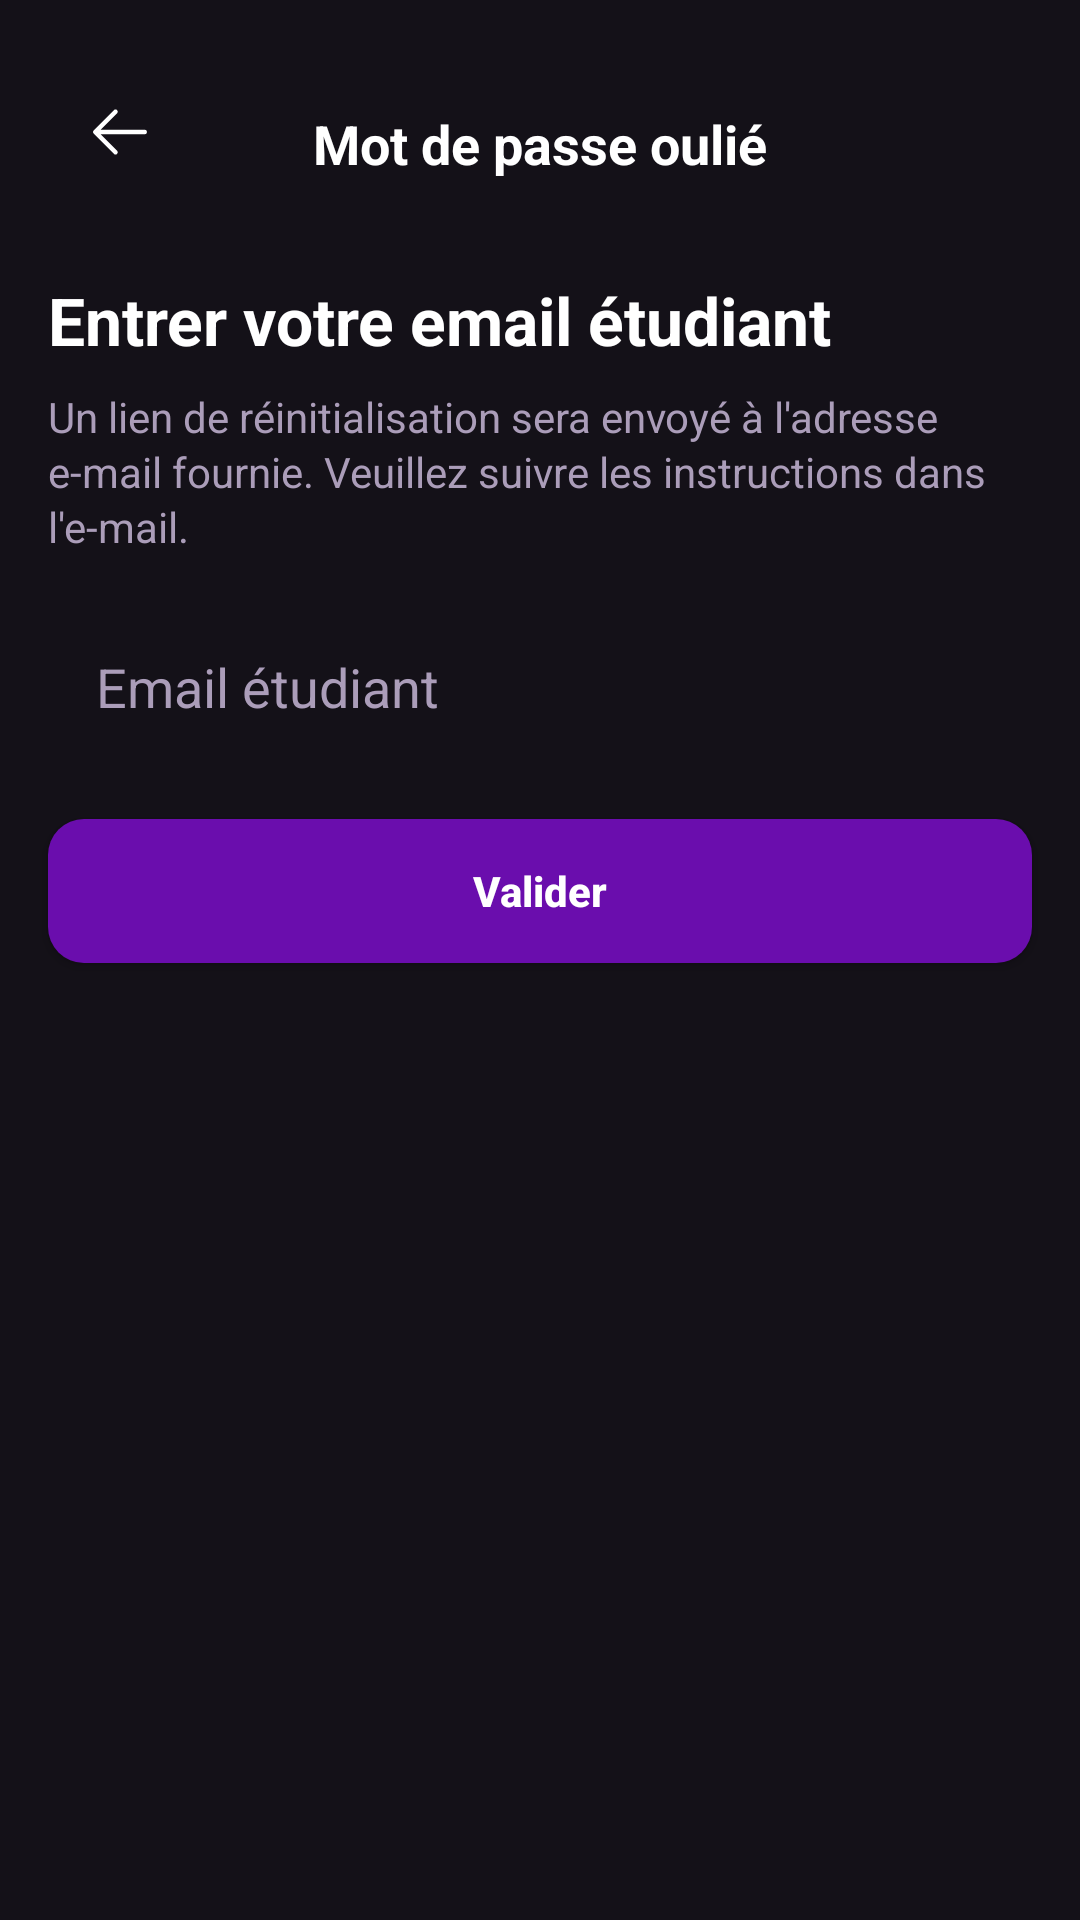

Locate icon controls on the screen. Image size 1080*1920, boxes as (x1, y1, x2, y2).
Retour: (93, 109, 147, 155)
